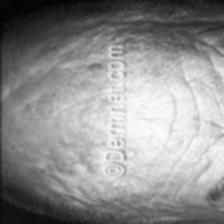Unclassified: (48, 160, 92, 190), (88, 64, 100, 82)
